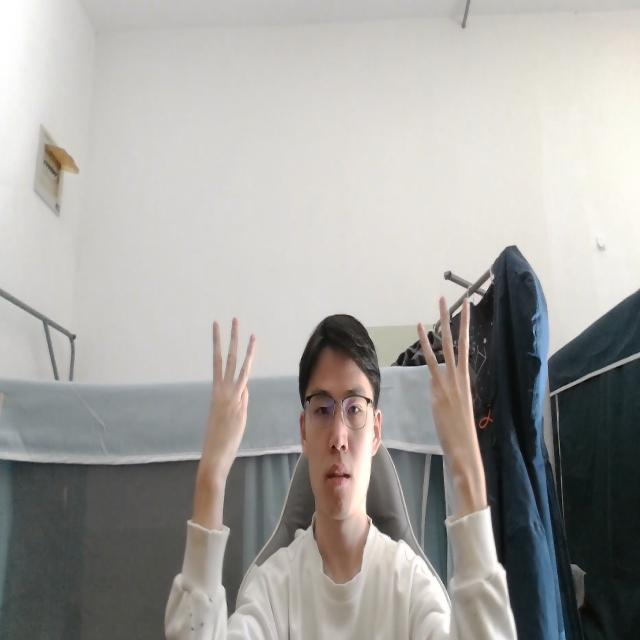three: (416, 289, 483, 490), (199, 312, 256, 476)
